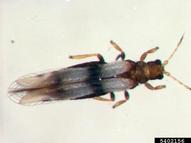Thrips: (10, 39, 191, 108)
